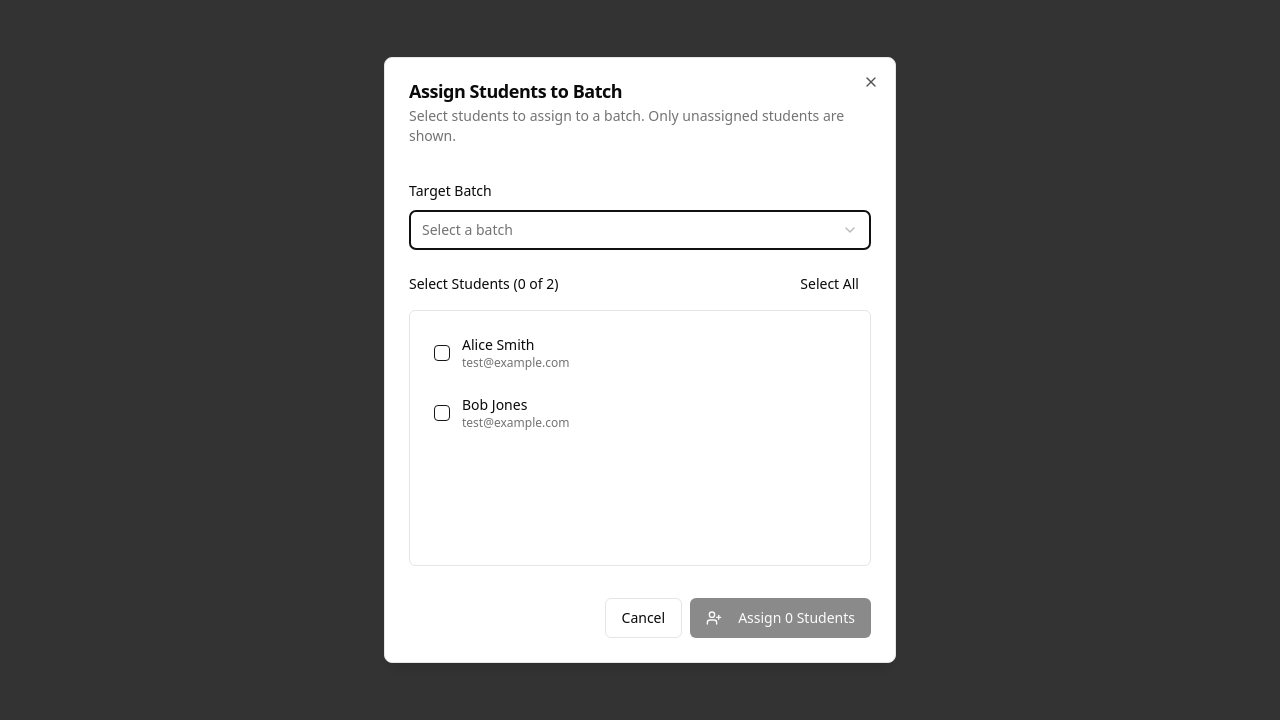
Test case: AssignStudentsDialog › form validation › enables submit when batch and students are selected
This screenshot has width=1280, height=720.
Click the dropdown at coordinates (467, 230), box 409,210 -> 871,250
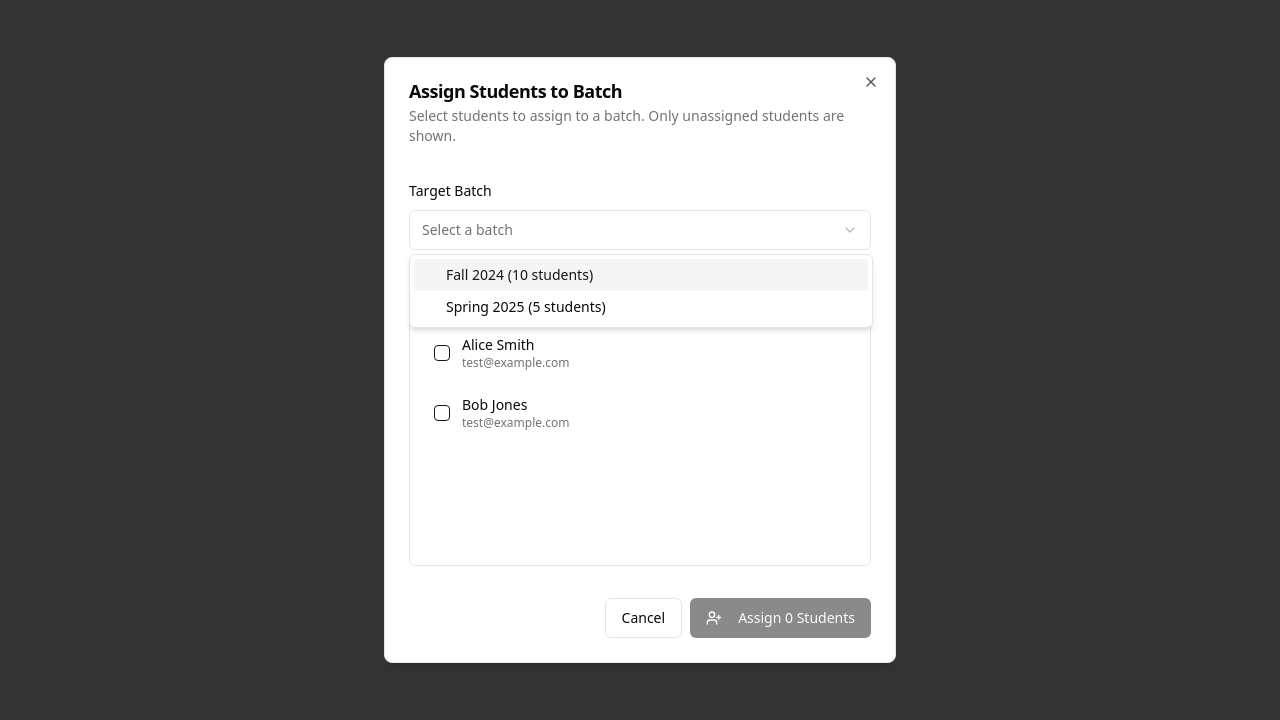
Click the option "Fall 2024 (10 students)" at coordinates (475, 274), box 414,259 -> 868,291
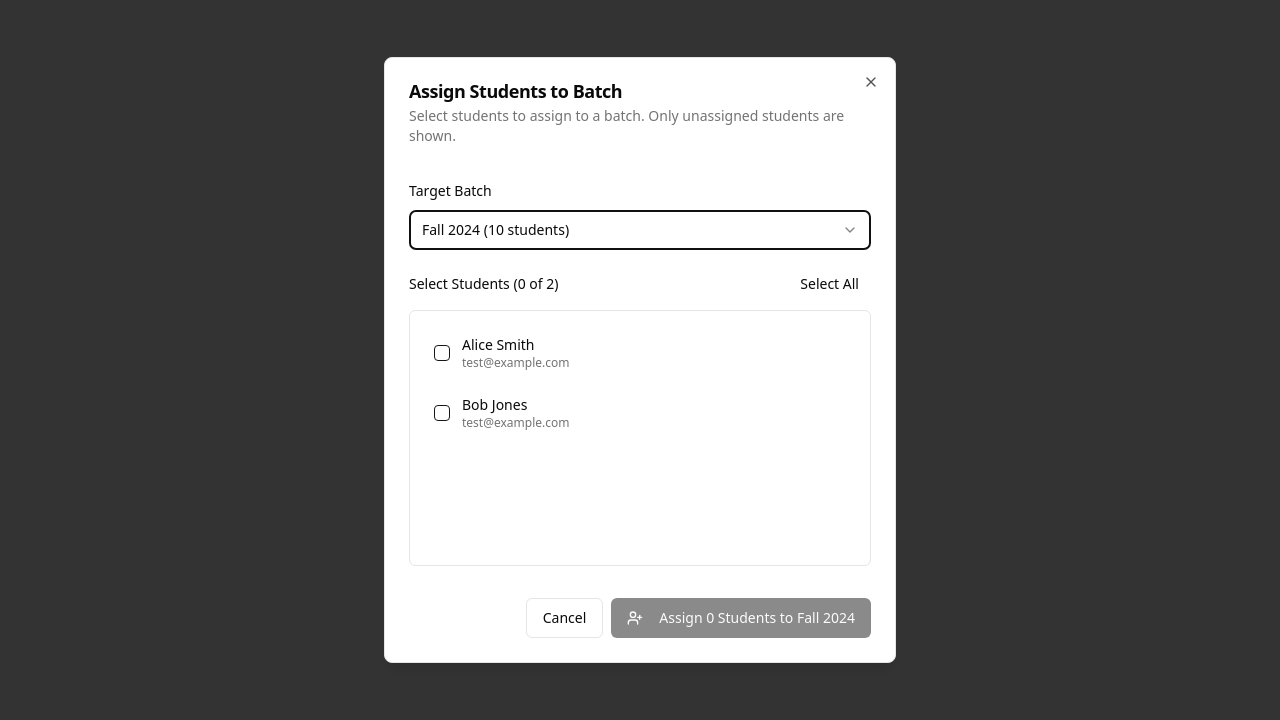
Click the checkbox named "alice" at coordinates (442, 353), box 434,345 -> 450,361
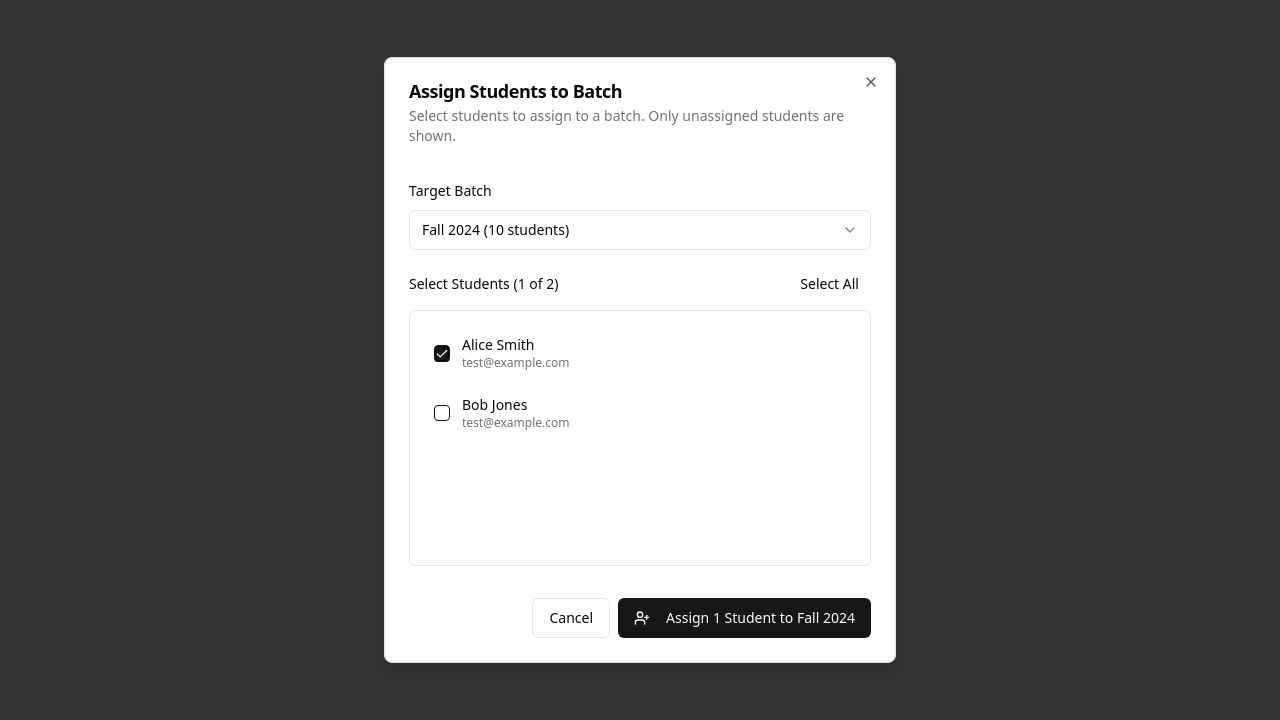
Now the button "Assign 1 Student to Fall 2024" is enabled, box 618,598 -> 871,638
